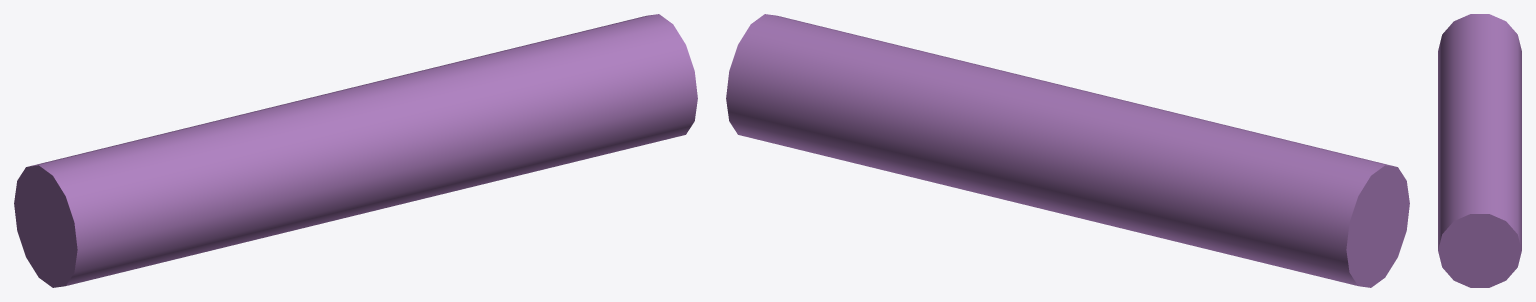
Rendered from yoga_mat_rolled.glb.
3 views of the same model, side by side, from view 1: azimuth 30°, elevation 25°; view 2: azimuth 150°, elevation 25°; view 3: azimuth 270°, elevation 25° (orthographic). The views are drawn at different scales.
Visible parts, largest first — view 1: yoga_mat_rolled; view 2: yoga_mat_rolled; view 3: yoga_mat_rolled.
Part boxes in pixels (left/top/right/bottom): yoga_mat_rolled: left=14, top=14, right=697, bottom=287; yoga_mat_rolled: left=726, top=14, right=1409, bottom=287; yoga_mat_rolled: left=1438, top=14, right=1521, bottom=287.
Bounding box in the file's own units: 0.62 × 0.1072 × 0.11.
